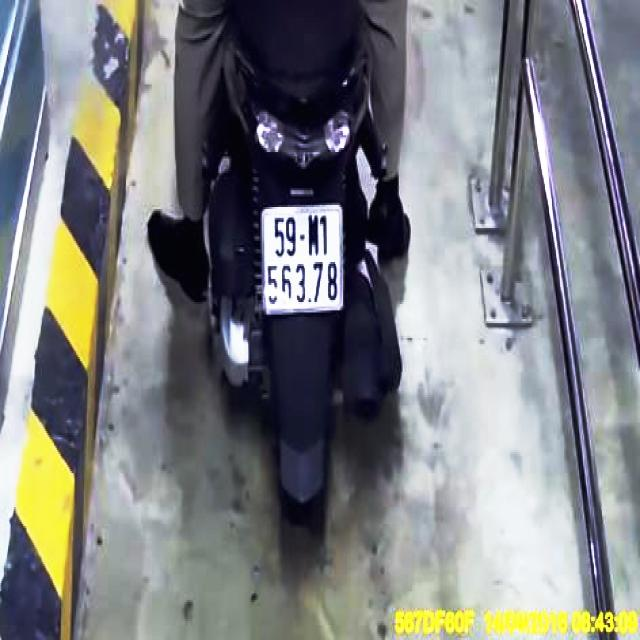license_plate: (261, 208, 346, 313)
